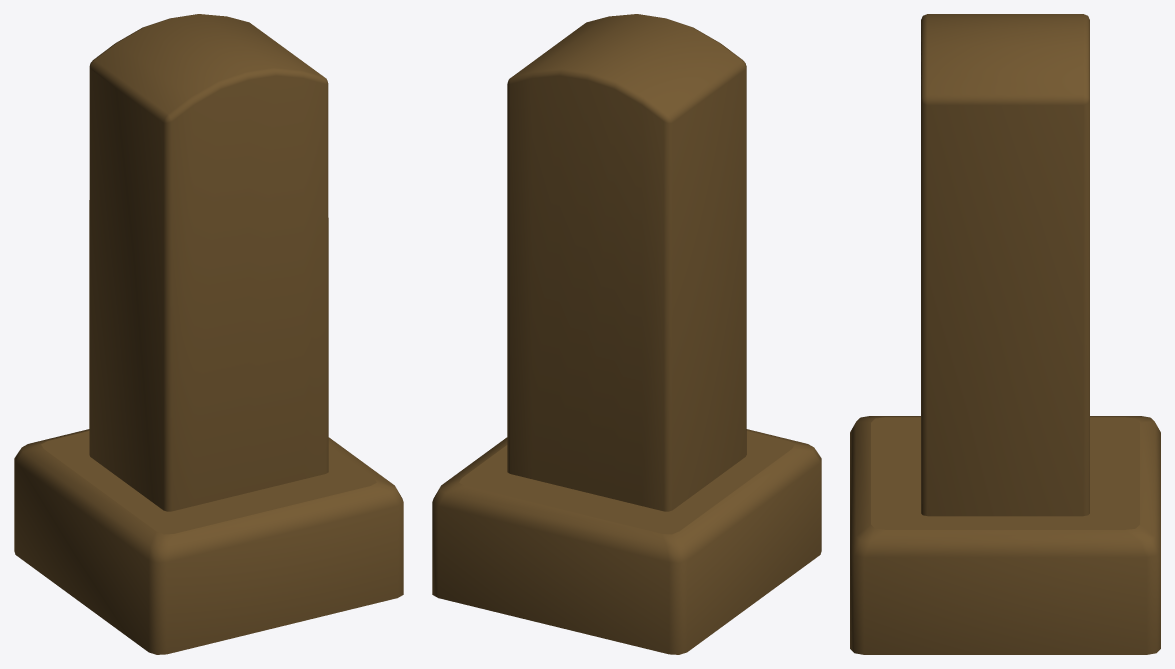
Rendered from LapidePequena.fbx.
3 renders of one model, left to right at view 1: azimuth 30°, elevation 25°; view 2: azimuth 150°, elevation 25°; view 3: azimuth 270°, elevation 25°, orthographic. The views are drawn at different scales.
Parts seen in each view (by area): view 1: LapidePequena_LOD0; view 2: LapidePequena_LOD0; view 3: LapidePequena_LOD0.
Boxes of the visible parts, bbox=[...] form: LapidePequena_LOD0: bbox=[14, 14, 403, 654]; LapidePequena_LOD0: bbox=[432, 14, 821, 654]; LapidePequena_LOD0: bbox=[850, 14, 1160, 654].
Size of what is drawn, in the model's own units: 32.74 by 65.03 by 32.74.
